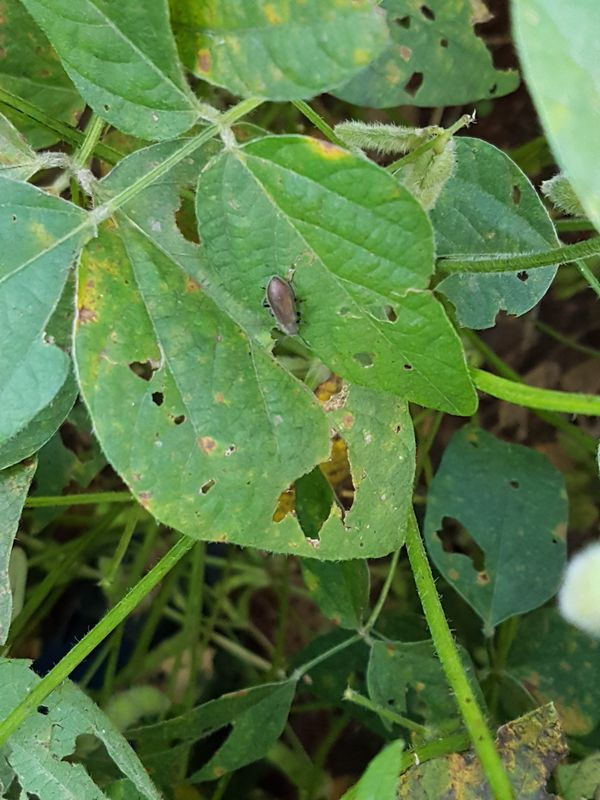Lagria_villosa: (251, 259, 320, 355)
